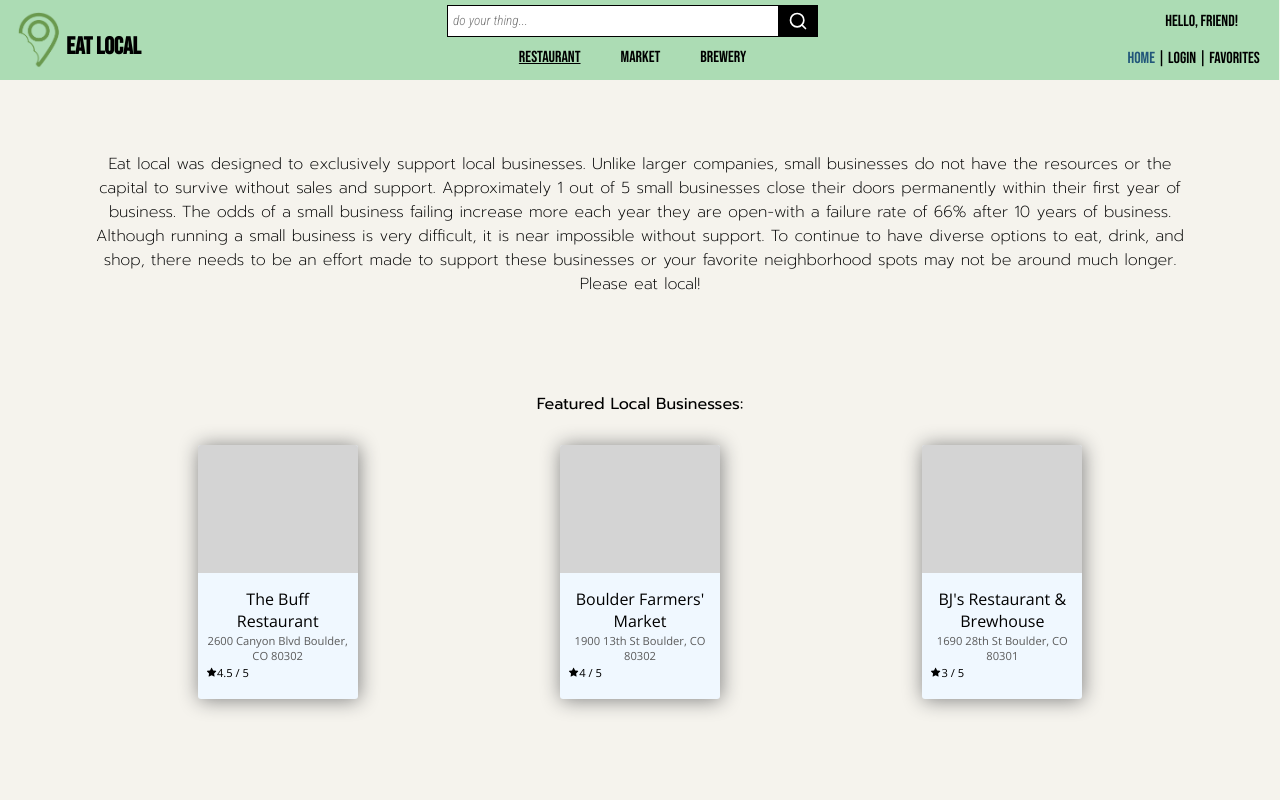
Landing Page › login handles invalid email inputs
Click the text with class "login": coordinates (1182, 59) [1168, 49, 1196, 68]
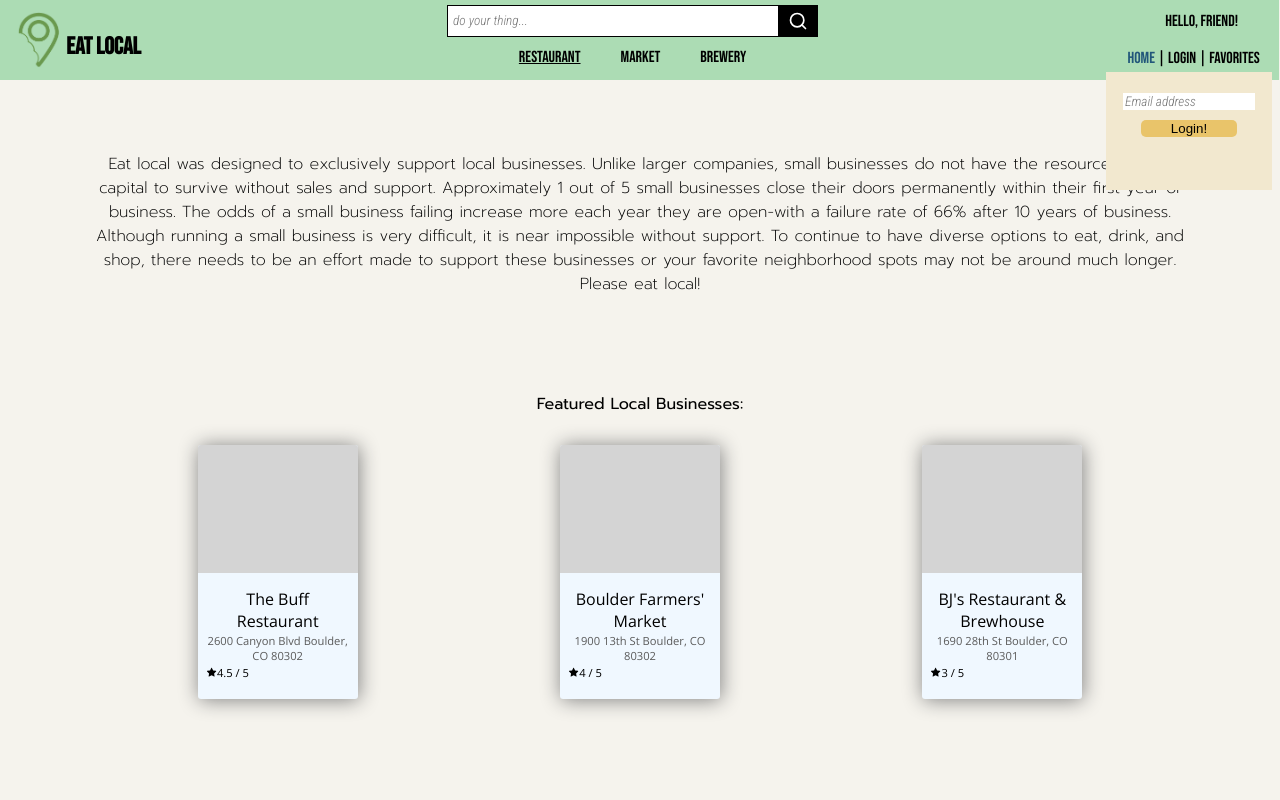
In the field with class "input-email": coordinates (1189, 102) [1123, 93, 1255, 110], type "not an email"
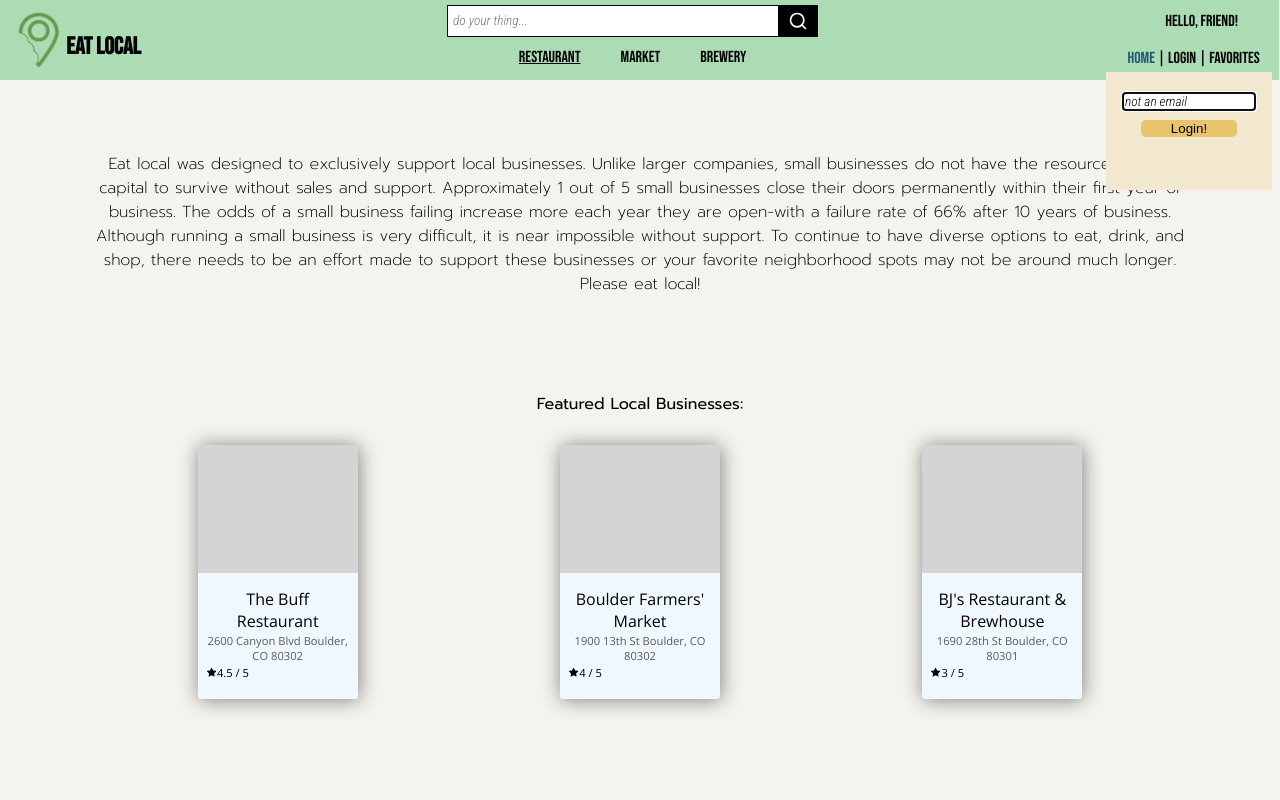
Click the button with class "login-btn": coordinates (1189, 129) [1141, 120, 1237, 137]
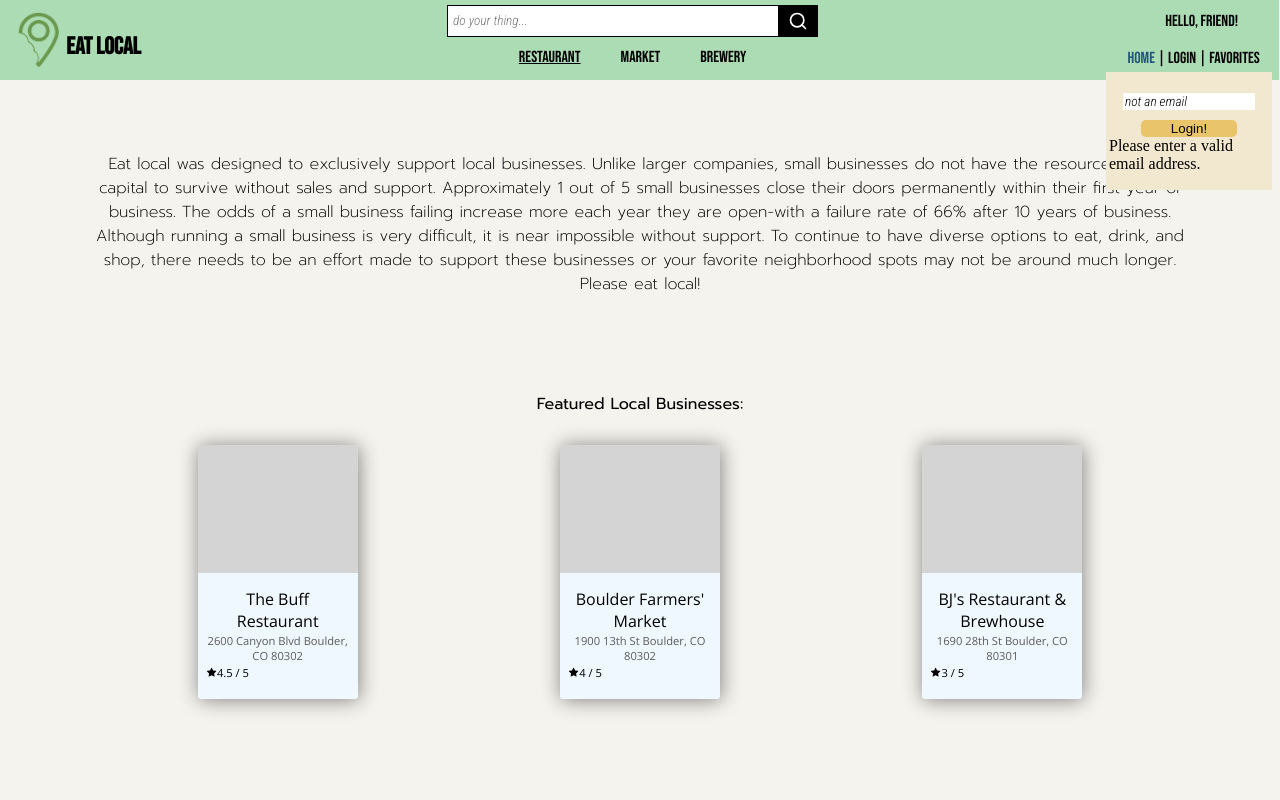
expect the text with test id "email-error" reads "Please enter a valid email address.": met, box [1109, 137, 1233, 172]
